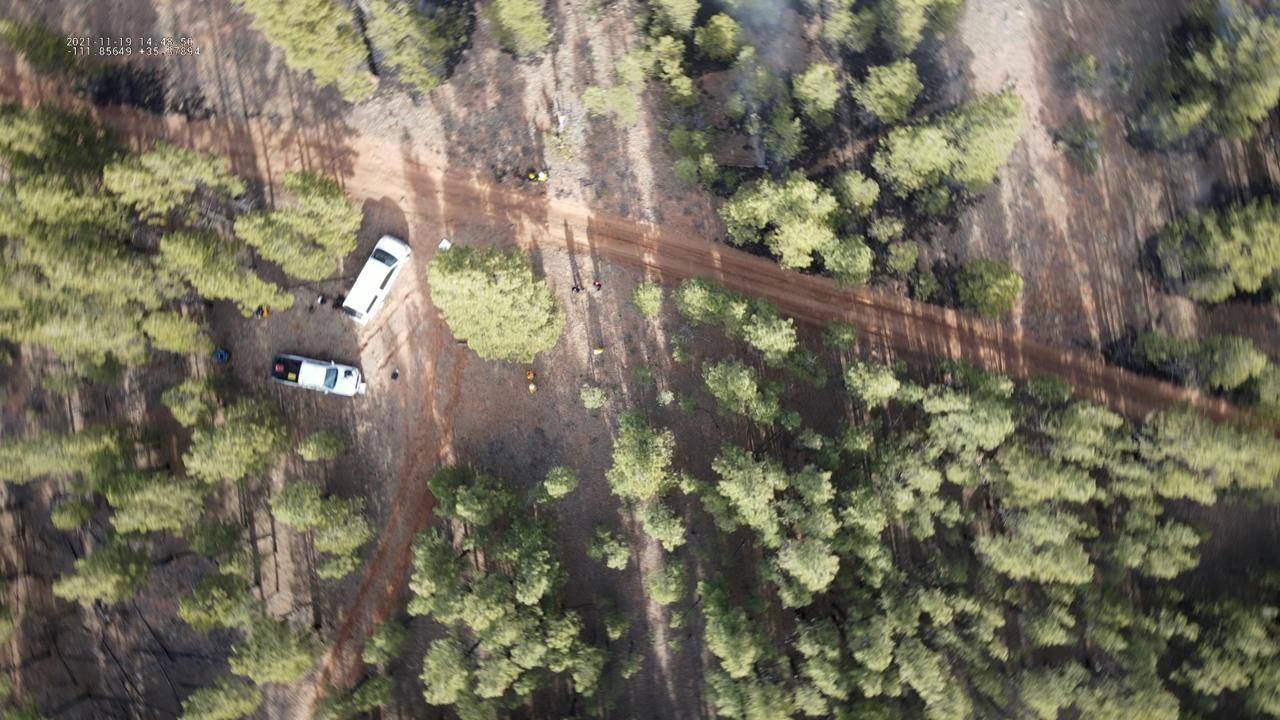smoke: (715, 0, 799, 171)
